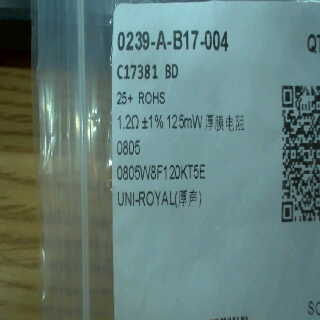1.2R: (116, 108, 144, 159)
